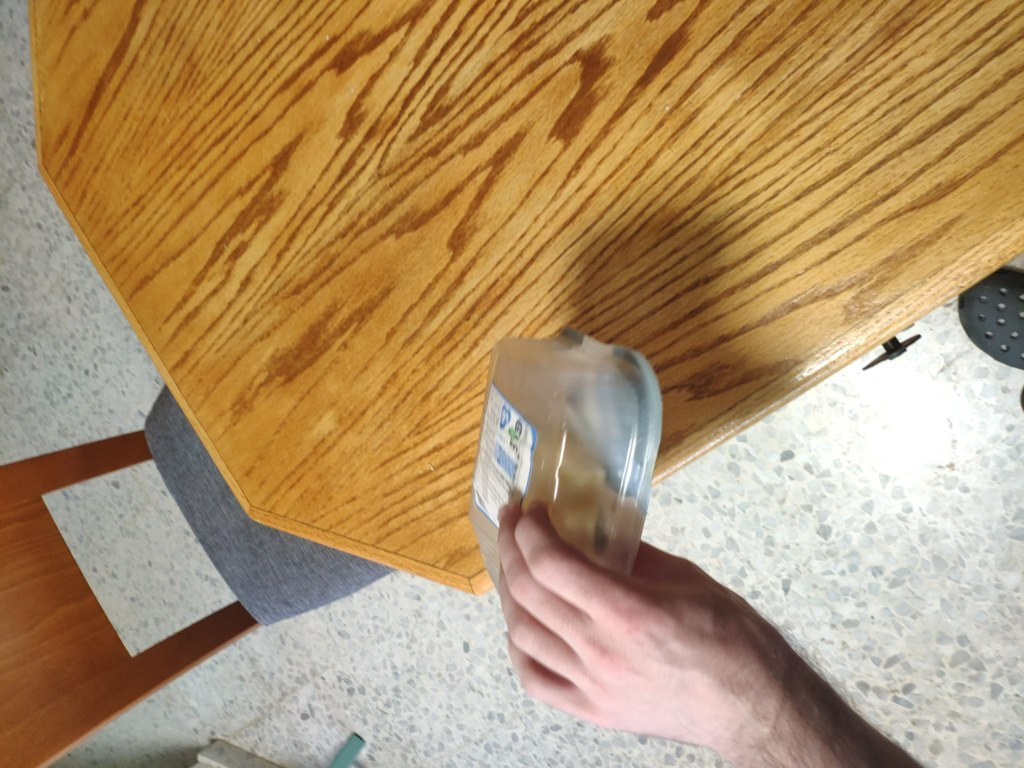Cheese: (451, 376, 687, 657)
